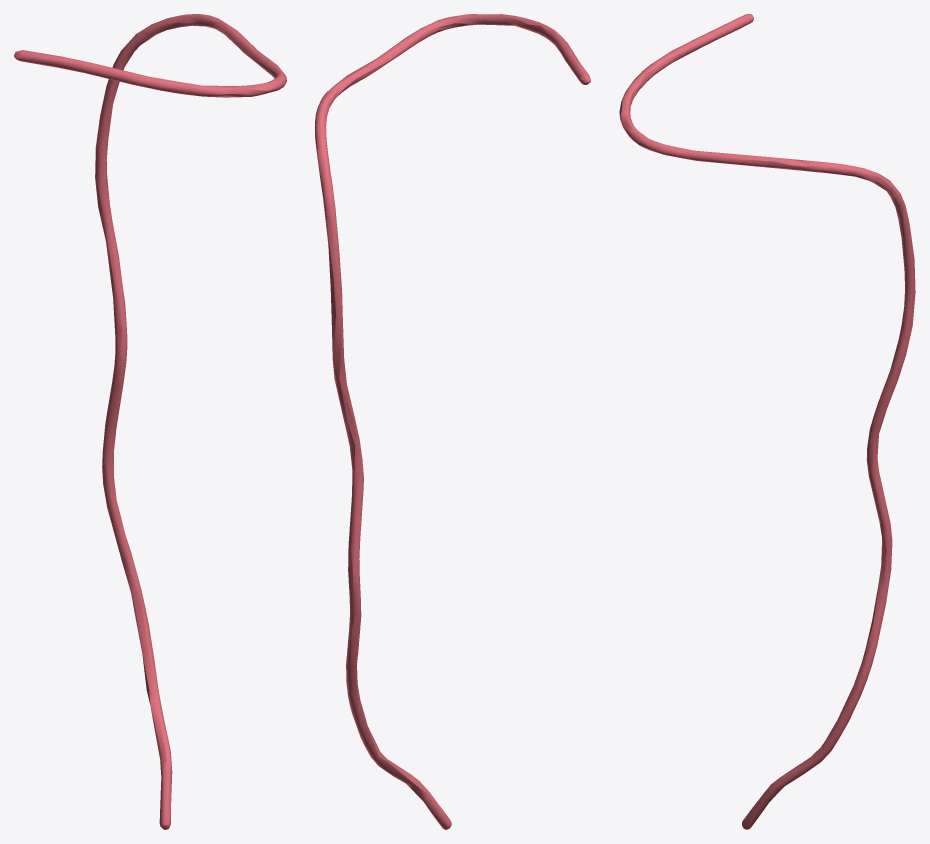
The model's file is fma68068_fj3447.glb.
3 views of the same model, side by side, from view 1: azimuth 30°, elevation 25°; view 2: azimuth 150°, elevation 25°; view 3: azimuth 270°, elevation 25° (orthographic). The views are drawn at different scales.
Visible parts, largest first — view 1: FMA68068_FJ3447; view 2: FMA68068_FJ3447; view 3: FMA68068_FJ3447.
Part boxes in pixels (bbox=[...]): FMA68068_FJ3447: bbox=[14, 14, 286, 829]; FMA68068_FJ3447: bbox=[315, 14, 590, 829]; FMA68068_FJ3447: bbox=[619, 14, 915, 829].
Bounding box in the file's own units: 0.0453 × 0.1474 × 0.0527.
